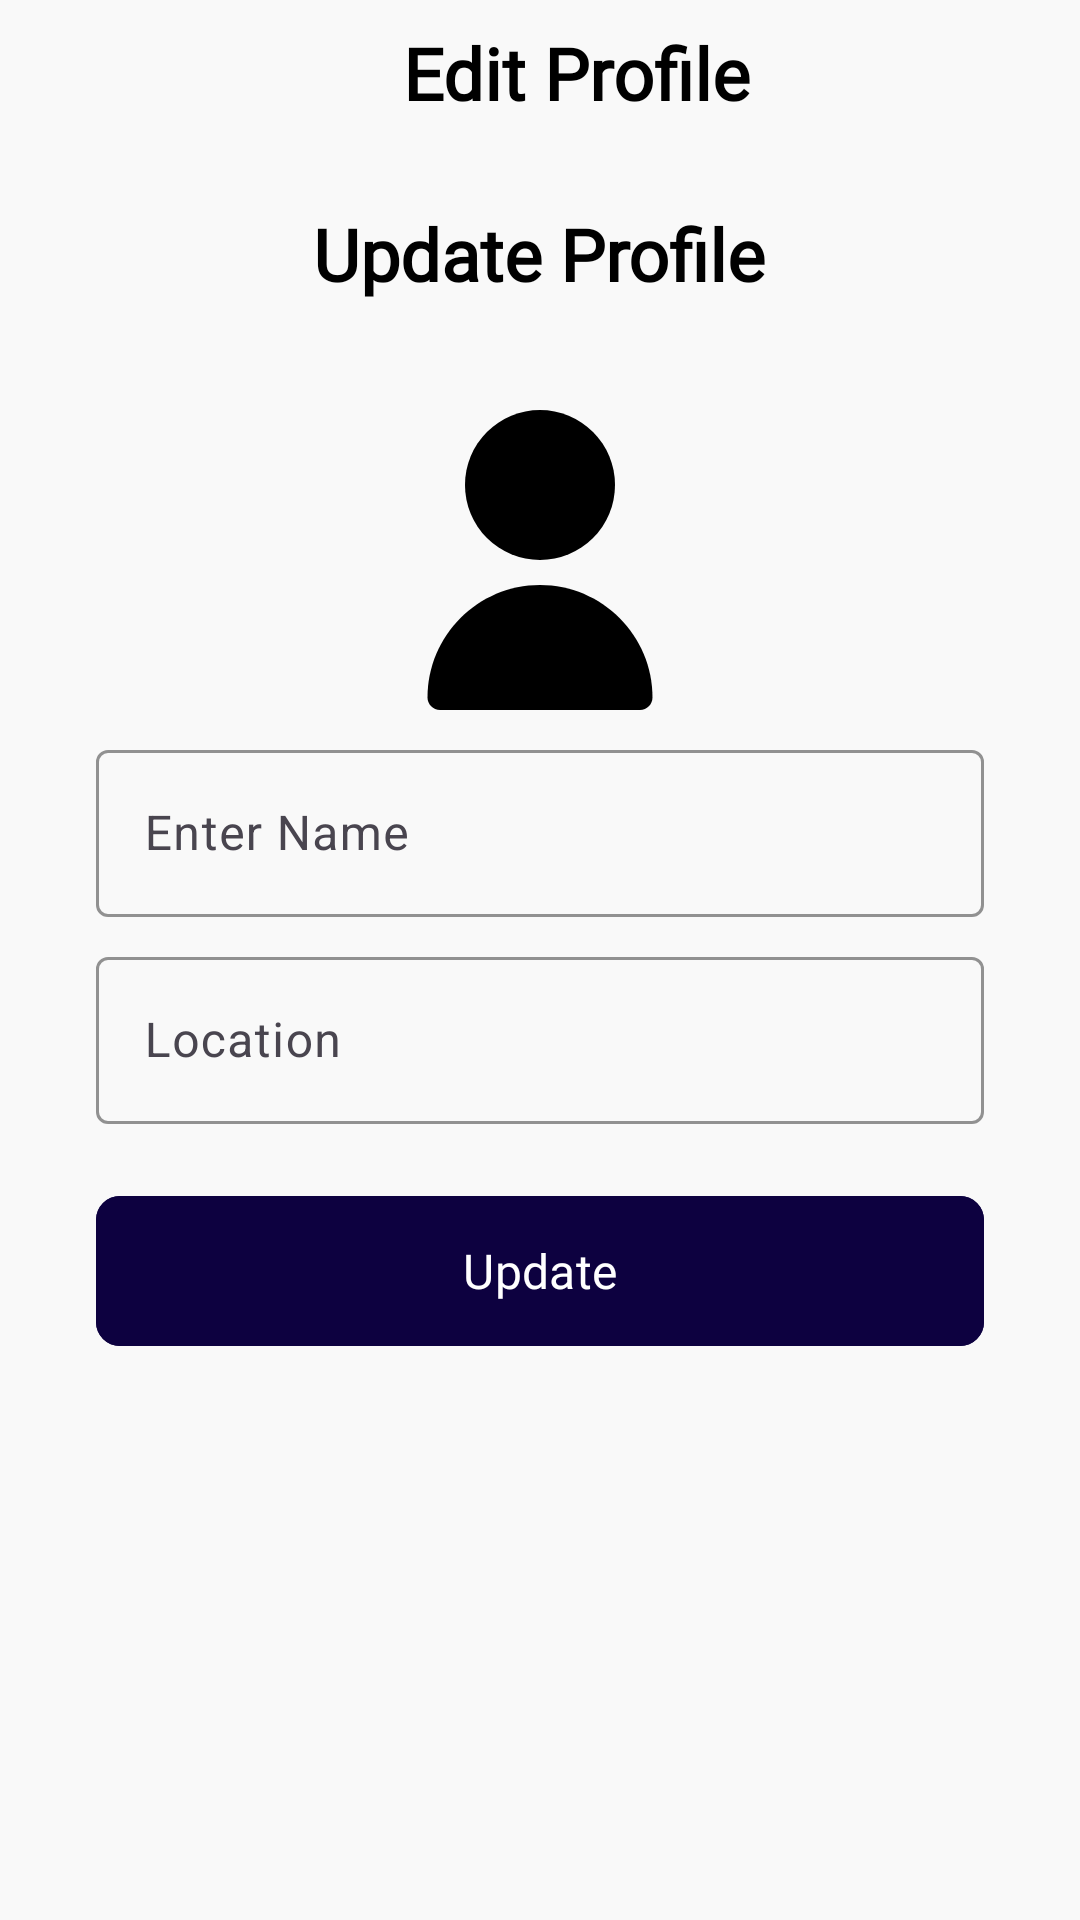

Locate icon controls on the screen. Image size 1080px x 1920px, boxes as (x1, y1, x2, y2).
user: (427, 410, 653, 710)
